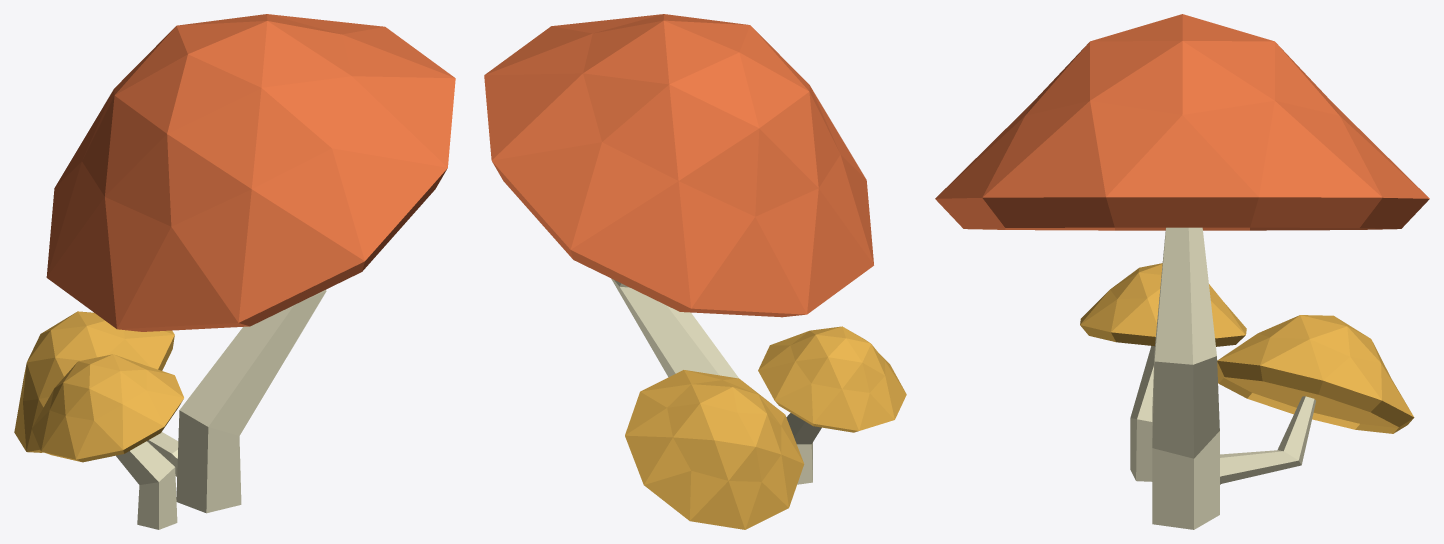
Rendered from mushrooms.fbx.
The picture shows the model from 3 angles, left to right: view 1: azimuth 30°, elevation 25°; view 2: azimuth 150°, elevation 25°; view 3: azimuth 270°, elevation 25°; orthographic projection. The views are drawn at different scales.
Visible parts, largest first — view 1: Icosphere, Cylinder; view 2: Icosphere, Cylinder; view 3: Icosphere, Cylinder.
Boxes of the visible parts, box(x1,y1,x2,y2) form: Icosphere: box(14, 14, 455, 462); Cylinder: box(116, 290, 326, 529); Icosphere: box(484, 14, 906, 529); Cylinder: box(611, 278, 821, 484); Icosphere: box(935, 14, 1429, 433); Cylinder: box(1130, 227, 1315, 529).
Bounding box in the file's own units: 107 × 123 × 109.
